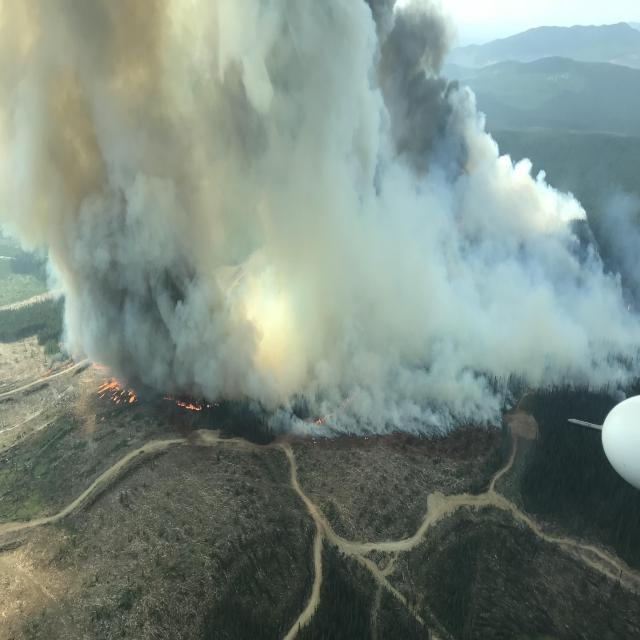Fire: (102, 376, 134, 412), (170, 392, 214, 417)
Smoke: (372, 27, 570, 374), (204, 19, 378, 370), (6, 18, 222, 286)
